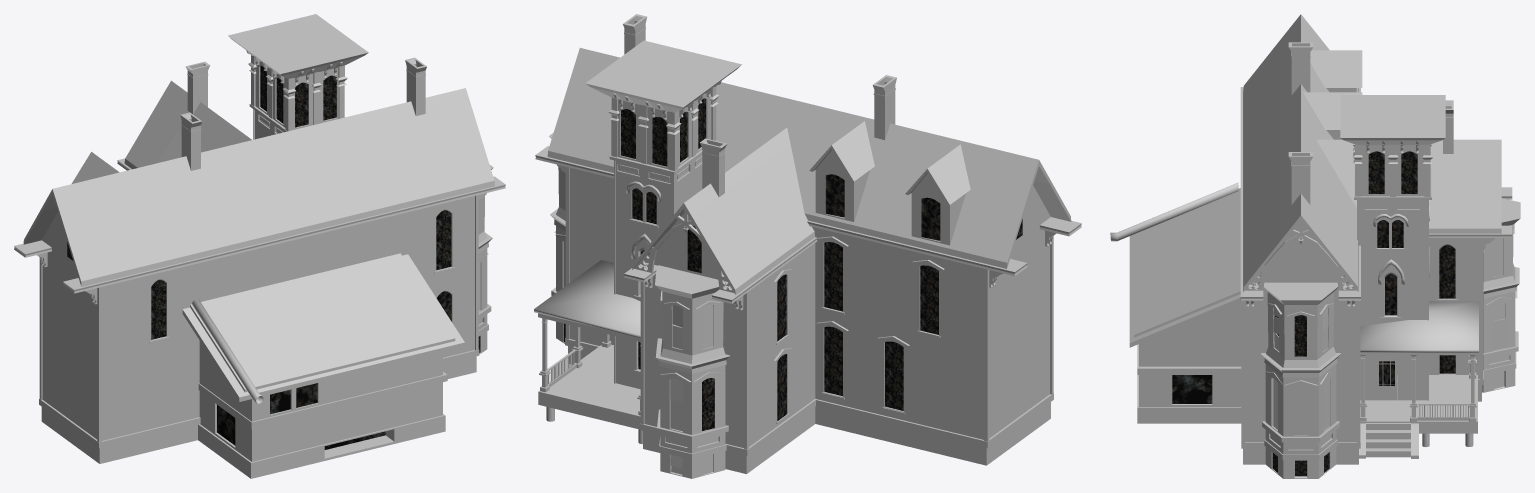
Rendered from Abanedoned_house01.fbx.
3 views of the same model, side by side, from view 1: azimuth 30°, elevation 25°; view 2: azimuth 150°, elevation 25°; view 3: azimuth 270°, elevation 25° (orthographic). The views are drawn at different scales.
Visible parts, largest first — view 1: Left_house, Secret_room, Ornaments, Base_Entrace.000, WIndows, House_right, Pipe; view 2: Left_house, House_right, Ornaments, Base_Entrace.000, WIndows, Courtyard; view 3: Left_house, Secret_room, House_right, Base_Entrace.000, Ornaments, Courtyard, WIndows, Pipe.
Part boxes in pixels (bbox=[...]): Left_house: bbox=[23, 57, 494, 463]; Secret_room: bbox=[182, 253, 464, 478]; Ornaments: bbox=[14, 50, 505, 442]; Base_Entrace.000: bbox=[228, 14, 368, 139]; WIndows: bbox=[67, 66, 480, 449]; House_right: bbox=[124, 61, 251, 169]; Pipe: bbox=[192, 299, 263, 403]; Left_house: bbox=[547, 14, 1071, 465]; House_right: bbox=[632, 128, 816, 478]; Ornaments: bbox=[535, 80, 1081, 475]; Base_Entrace.000: bbox=[585, 40, 741, 389]; WIndows: bbox=[563, 98, 1022, 430]; Courtyard: bbox=[534, 260, 642, 443]; Left_house: bbox=[1241, 14, 1362, 478]; Secret_room: bbox=[1129, 188, 1241, 423]; House_right: bbox=[1316, 100, 1520, 401]; Base_Entrace.000: bbox=[1340, 95, 1445, 400]; Ornaments: bbox=[1240, 87, 1517, 442]; Courtyard: bbox=[1359, 301, 1478, 458]; WIndows: bbox=[1172, 151, 1455, 476]; Pipe: bbox=[1110, 182, 1238, 241].
Size of the model in its own units: 1070 by 695 by 867.
